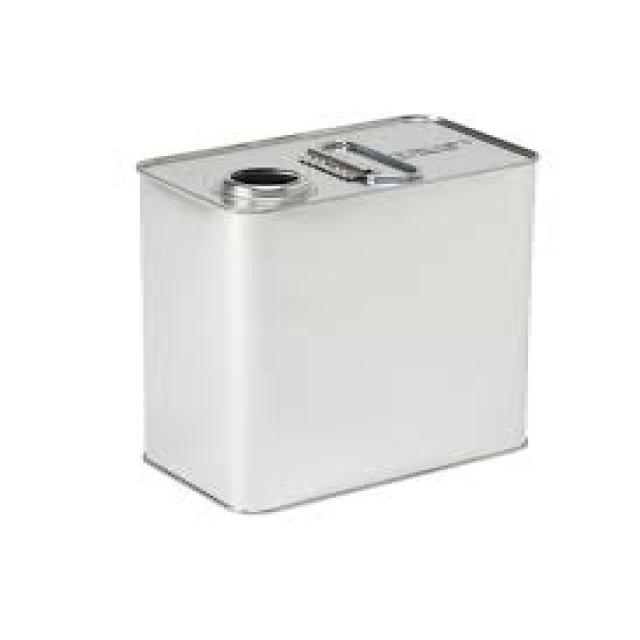Dry Waste: (87, 111, 597, 567)
